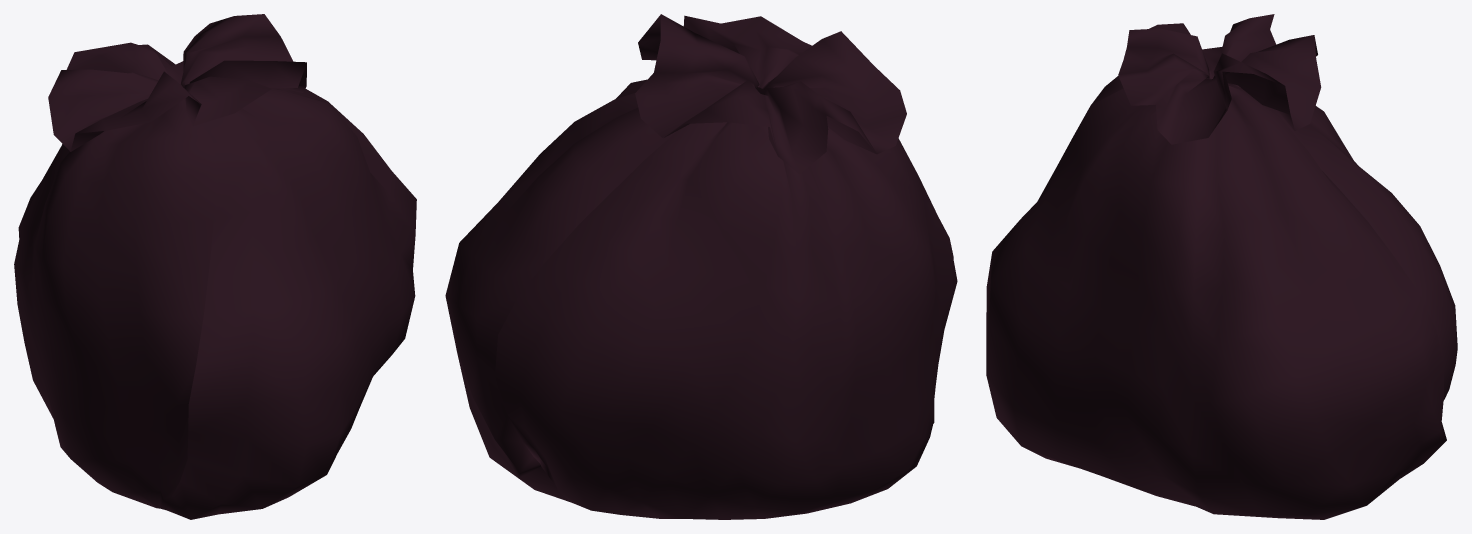
File: Bag.fbx
3 renders of one model, left to right at view 1: azimuth 30°, elevation 25°; view 2: azimuth 150°, elevation 25°; view 3: azimuth 270°, elevation 25°, orthographic. The views are drawn at different scales.
Parts seen in each view (by area): view 1: bag; view 2: bag; view 3: bag.
Boxes of the visible parts, x1,y1,x2,y2 form: bag: (14, 14, 416, 519); bag: (445, 14, 957, 519); bag: (986, 14, 1457, 519).
Size of the model in its own units: 100 by 100 by 100.
